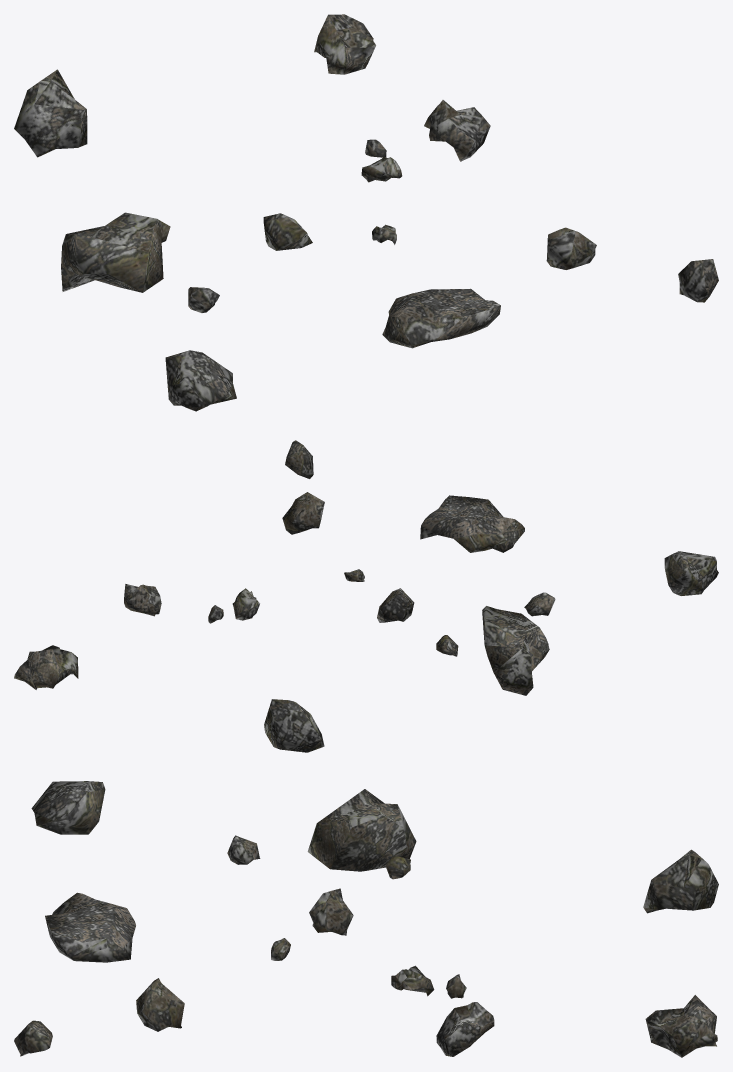
The model's file is wasteland_gravel_01_001_lod1.gltf.
3 views of the same model, one above another, from view 1: azimuth 30°, elevation 25°; view 2: azimuth 150°, elevation 25°; view 3: azimuth 270°, elevation 25° (orthographic). The views are drawn at different scales.
Parts seen in each view (by area): view 1: Wasteland gravel 01.001; view 2: Wasteland gravel 01.001; view 3: Wasteland gravel 01.001.
Boxes of the visible parts, <box> form: Wasteland gravel 01.001: <box>14,14,718,411</box>; Wasteland gravel 01.001: <box>14,440,718,752</box>; Wasteland gravel 01.001: <box>14,781,718,1057</box>.
Size of the model in its own units: 0.305 by 0.0407 by 0.3592.
1 material, 1 textured.
